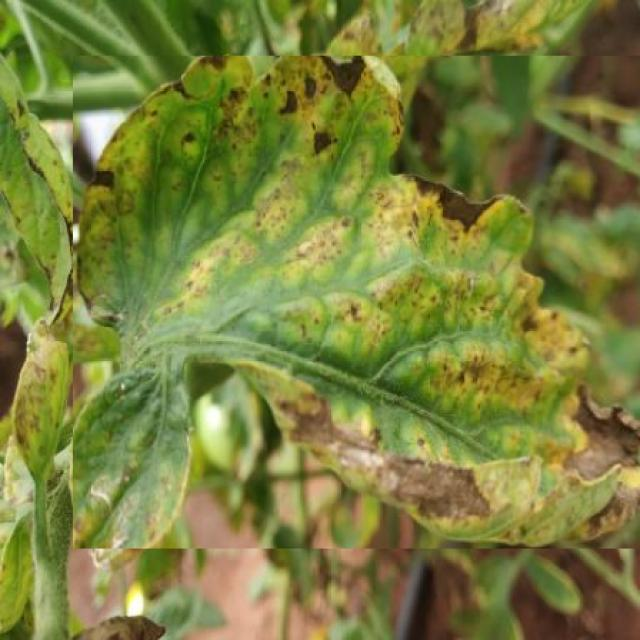Early Blight: (73, 56, 640, 548)
